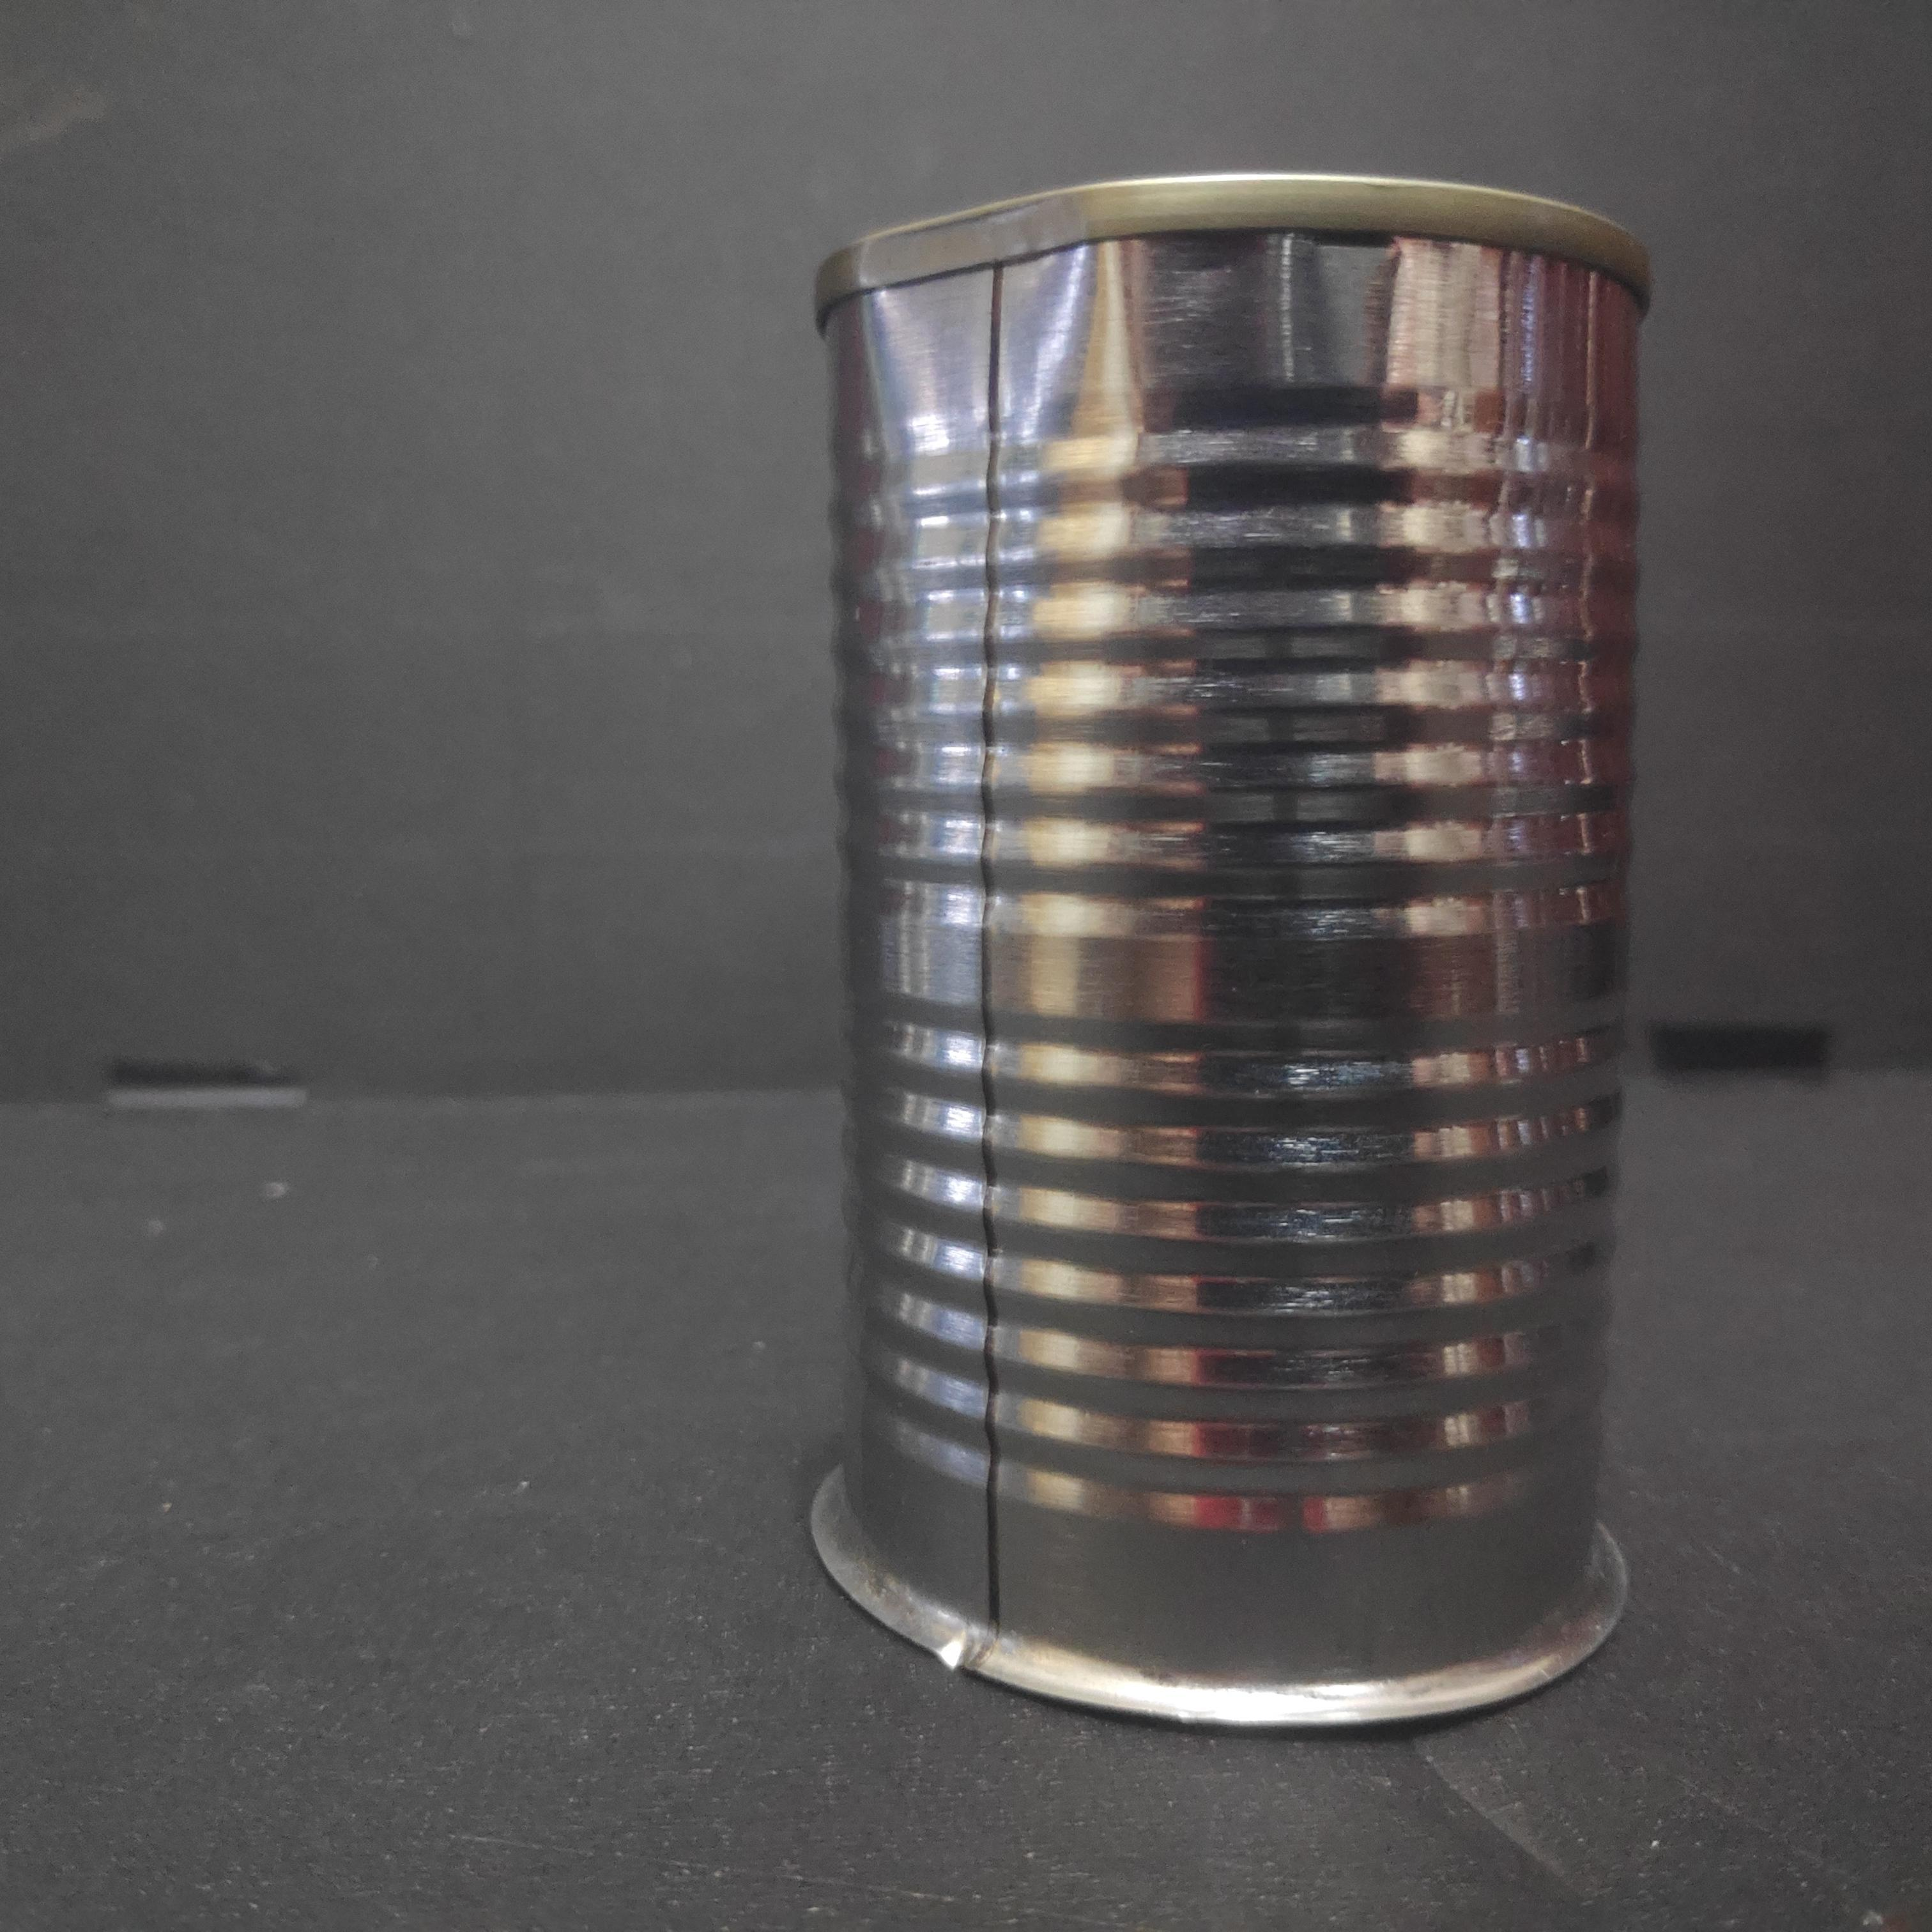Dented: (793, 154, 1665, 1737)
